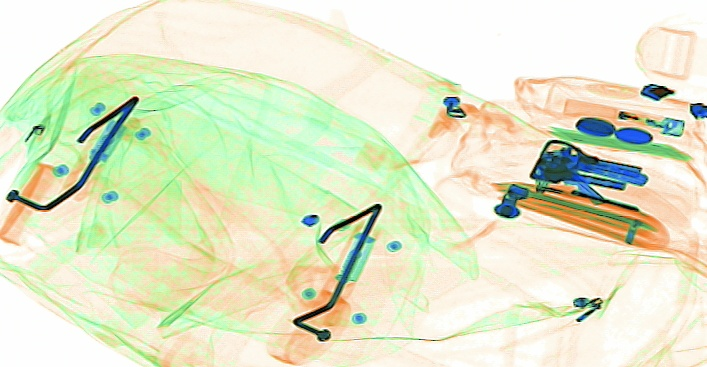lighter: (560, 95, 686, 137)
